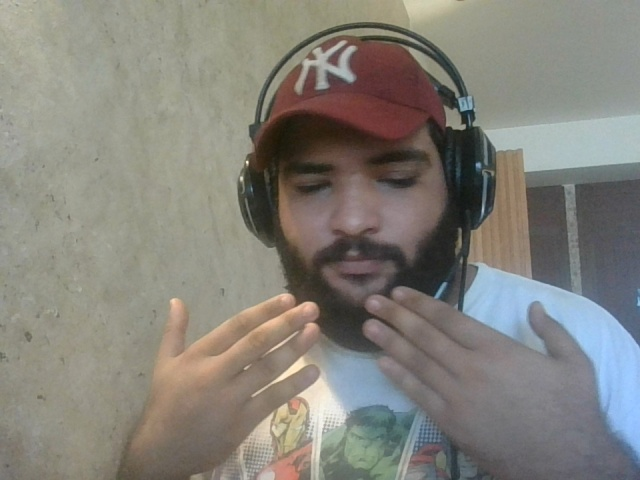thanks: (144, 292, 607, 473)
